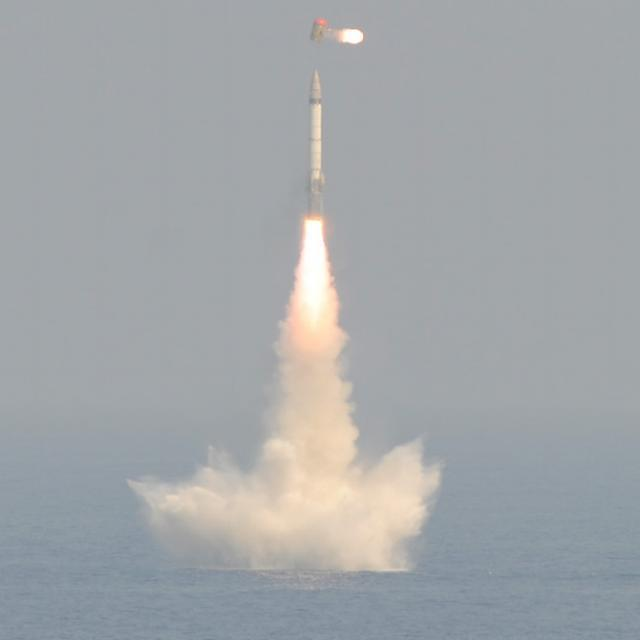missile: (300, 63, 332, 217)
